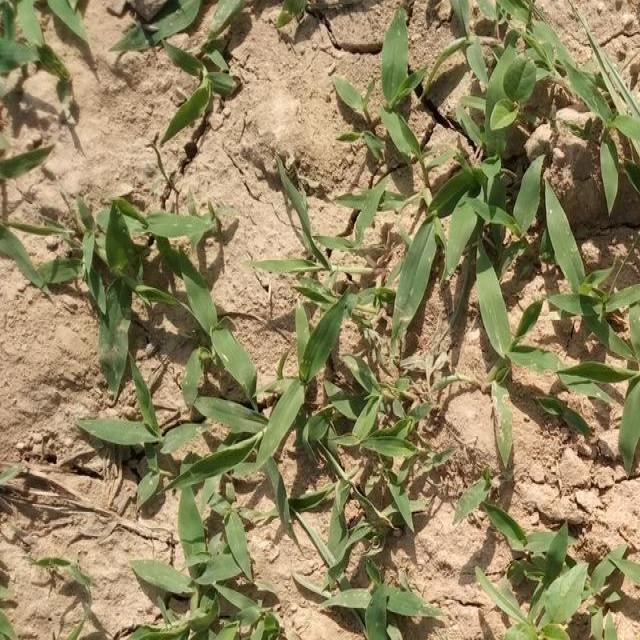weed: (371, 27, 640, 471), (52, 215, 259, 503), (298, 358, 442, 640), (493, 513, 640, 640), (264, 317, 349, 508), (160, 510, 266, 640), (270, 170, 370, 294), (125, 2, 316, 49), (156, 42, 230, 150), (451, 457, 524, 552), (0, 0, 89, 73), (0, 217, 73, 300), (31, 546, 100, 604)
